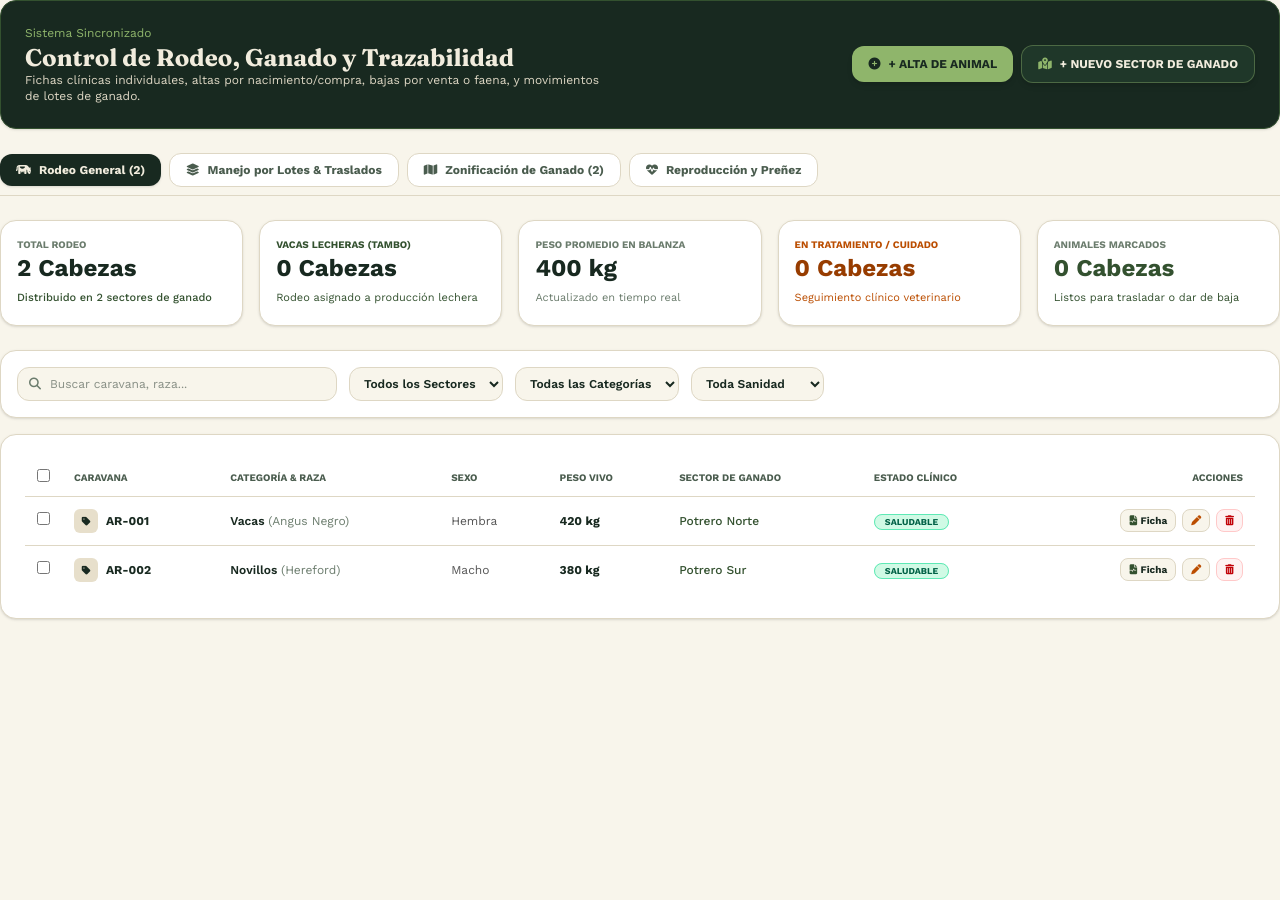
Test: Vista de Gestión de Ganado y Rodeo (GanadoView.jsx) › cancelar en el modal de baja masiva cierra el diálogo y no ejecuta ninguna petición
Check: the text "AR-001" is shown, box [106,512,149,528]
Click the checkbox next to "AR-001" at {"x": 44, "y": 518}, box [37,512,50,525]
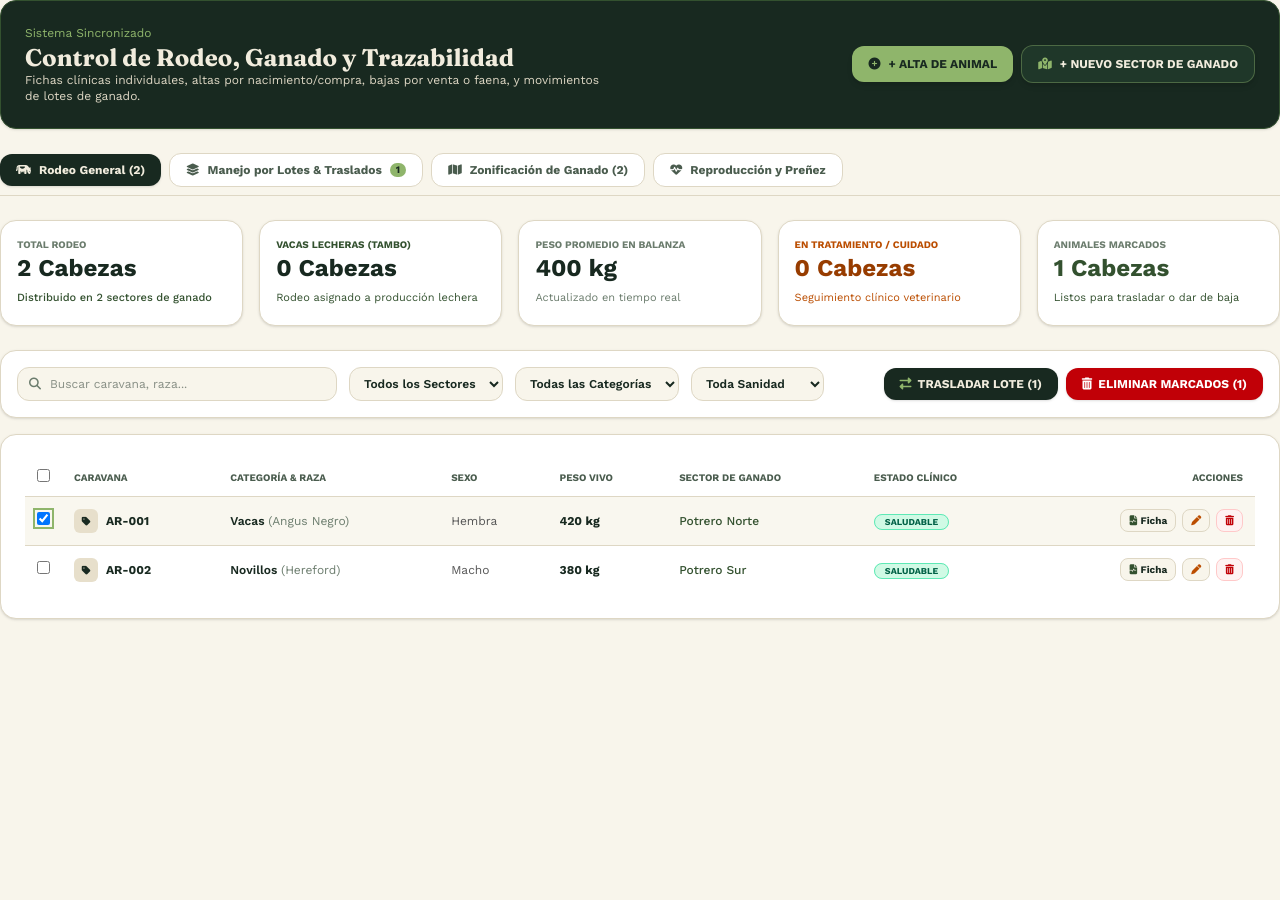
Click the button "Eliminar Marcados (1)" at {"x": 1164, "y": 384}, box [1066,368,1263,400]
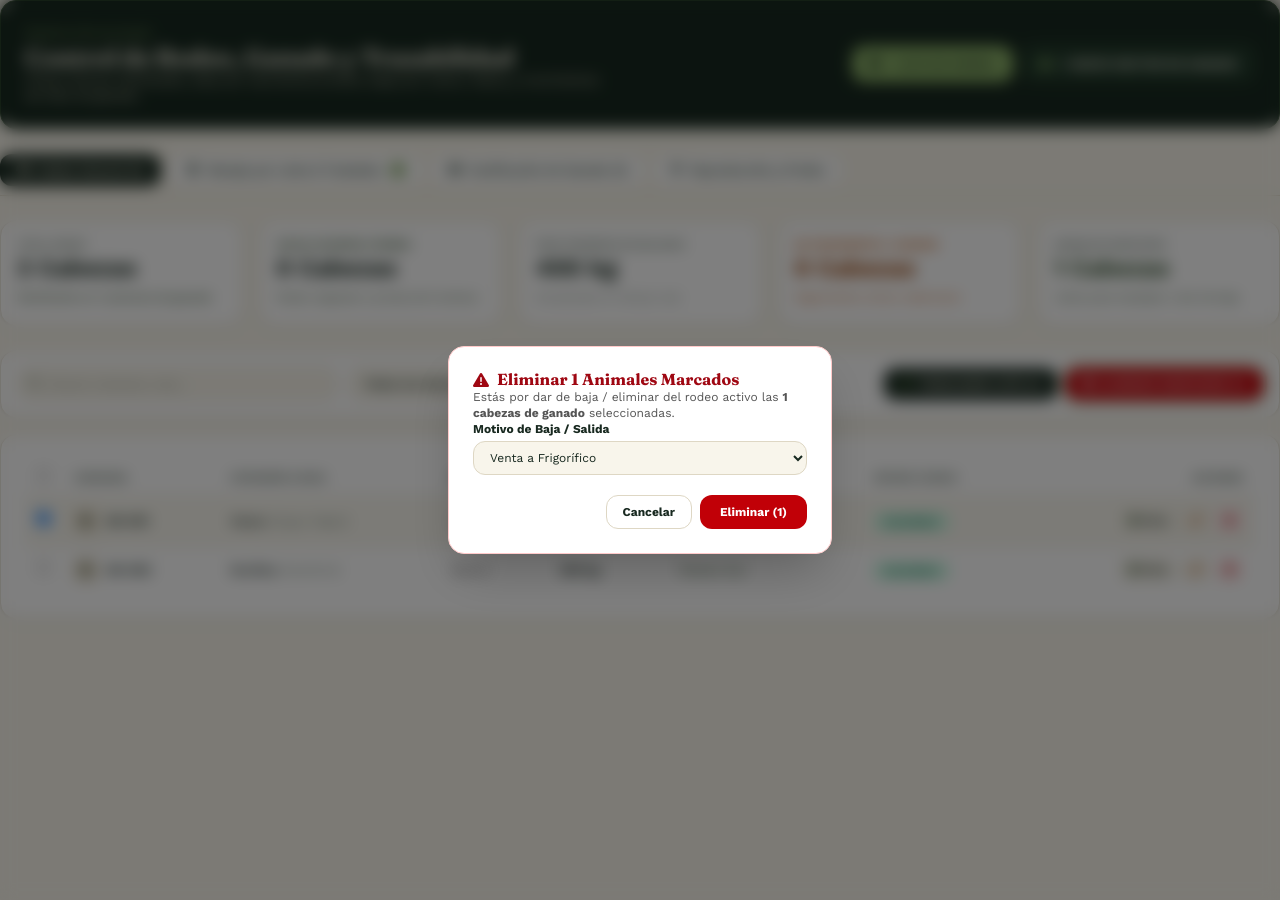
Check: the heading "Eliminar 1 Animales Marcados" is shown, box [473,369,740,389]
Click the button "Cancelar" at {"x": 649, "y": 512}, box [606,495,692,529]
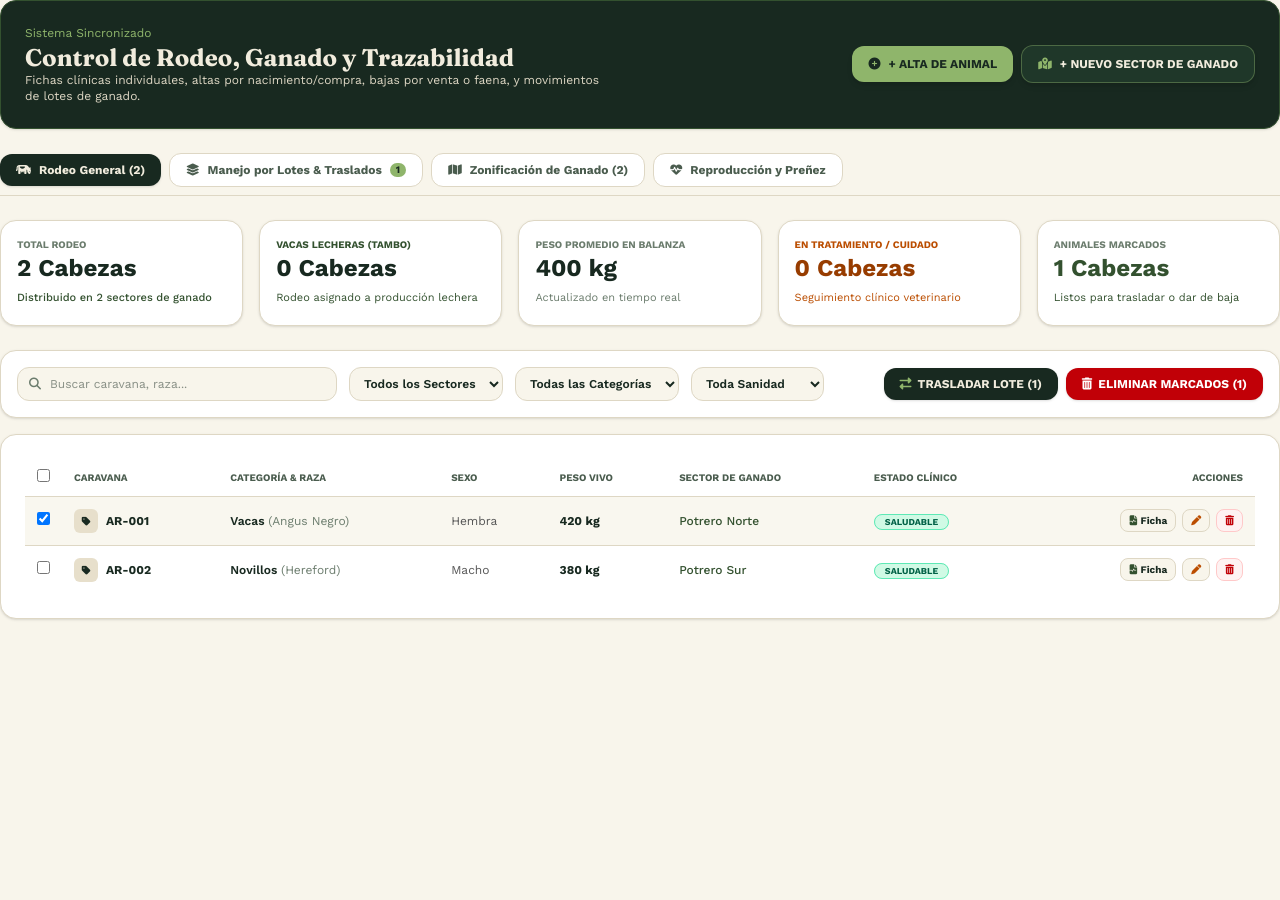
Check: the heading "Eliminar 1 Animales Marcados" is gone
